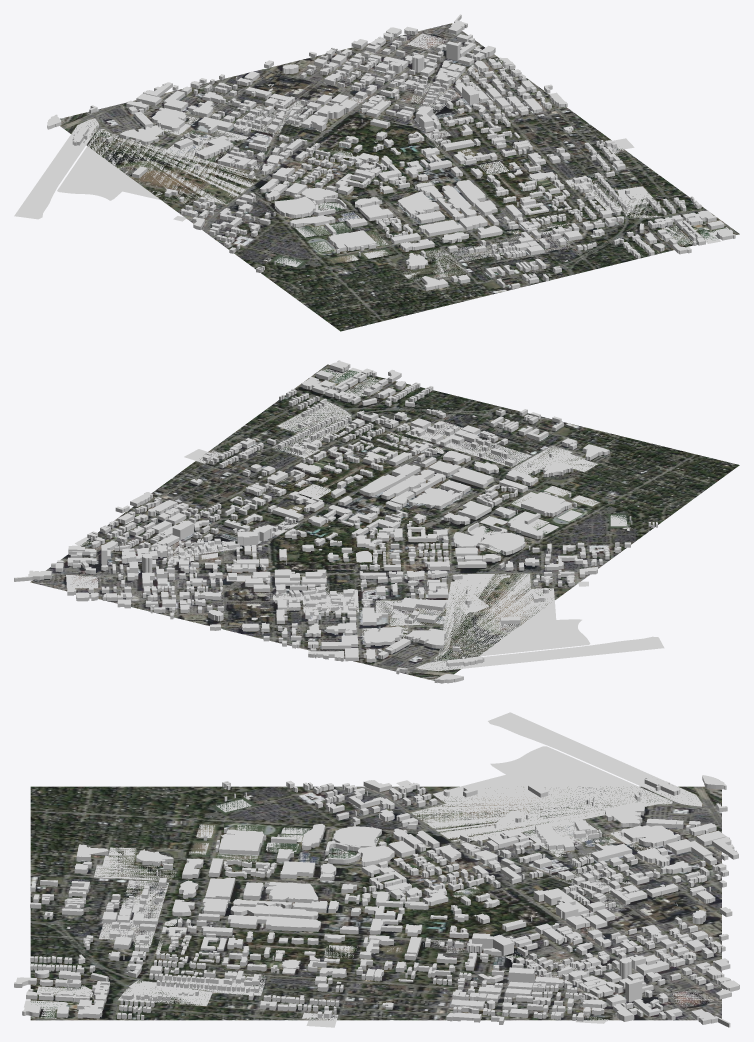
The model's file is Vanderbilt 3D Map.fbx.
3 renders of one model, top to bottom at view 1: azimuth 30°, elevation 25°; view 2: azimuth 150°, elevation 25°; view 3: azimuth 270°, elevation 25°, orthographic. The views are drawn at different scales.
Parts seen in each view (by area): view 1: EXPORT_GOOGLE_SAT_WM, Areas:building, Areas:leisure, Areas:landuse; view 2: EXPORT_GOOGLE_SAT_WM, Areas:building, Areas:leisure, Areas:landuse; view 3: EXPORT_GOOGLE_SAT_WM, Areas:building, Areas:leisure, Areas:landuse.
Boxes of the visible parts, x1,y1,x2,y2 form: EXPORT_GOOGLE_SAT_WM: [60, 23, 739, 331]; Areas:building: [47, 14, 735, 290]; Areas:leisure: [57, 57, 551, 281]; Areas:landuse: [14, 33, 729, 261]; EXPORT_GOOGLE_SAT_WM: [30, 364, 739, 680]; Areas:building: [14, 360, 657, 683]; Areas:leisure: [75, 446, 627, 660]; Areas:landuse: [66, 368, 664, 671]; EXPORT_GOOGLE_SAT_WM: [30, 786, 721, 1020]; Areas:building: [14, 775, 739, 1027]; Areas:leisure: [94, 746, 677, 1023]; Areas:landuse: [24, 712, 713, 1027].
Size of the model in its own units: 330098 by 8800 by 321082.
1 material, 1 textured.
